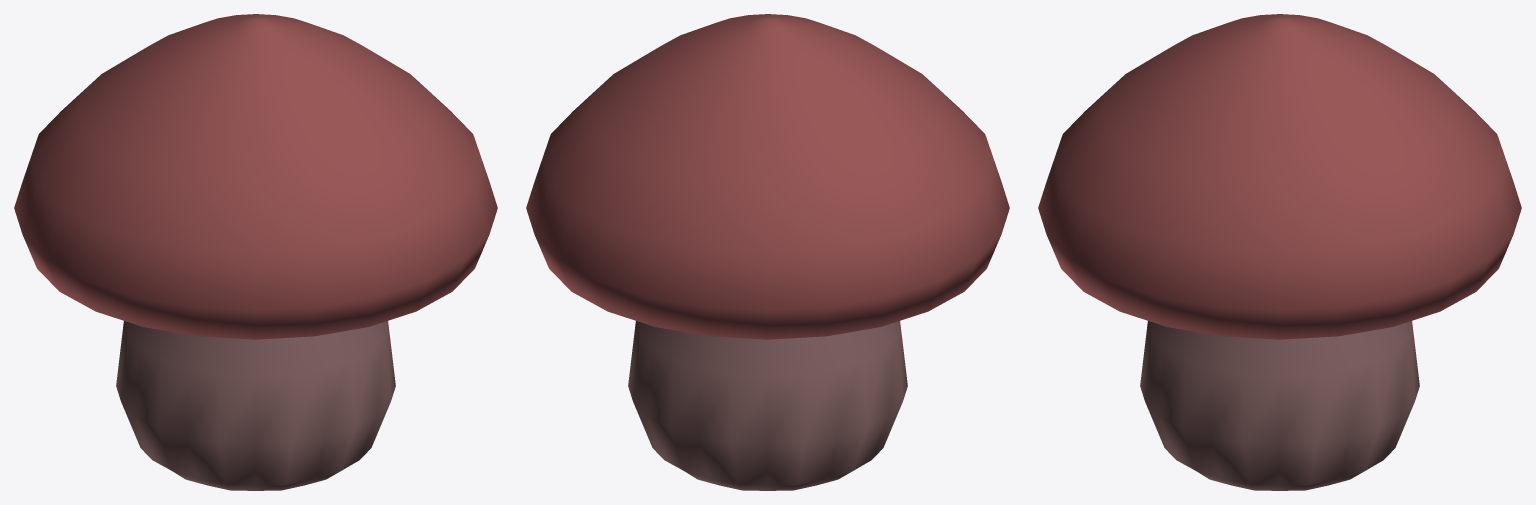
File: HongoPeque1_Mod.fbx
3 renders of one model, left to right at view 1: azimuth 30°, elevation 25°; view 2: azimuth 150°, elevation 25°; view 3: azimuth 270°, elevation 25°, orthographic.
Visible parts, largest first — view 1: HongoPeque1_Mod; view 2: HongoPeque1_Mod; view 3: HongoPeque1_Mod.
Boxes of the visible parts, <box> form: HongoPeque1_Mod: <box>14,14,497,490</box>; HongoPeque1_Mod: <box>526,14,1009,490</box>; HongoPeque1_Mod: <box>1038,14,1521,490</box>.
Bounding box in the file's own units: 142 × 140 × 142.
